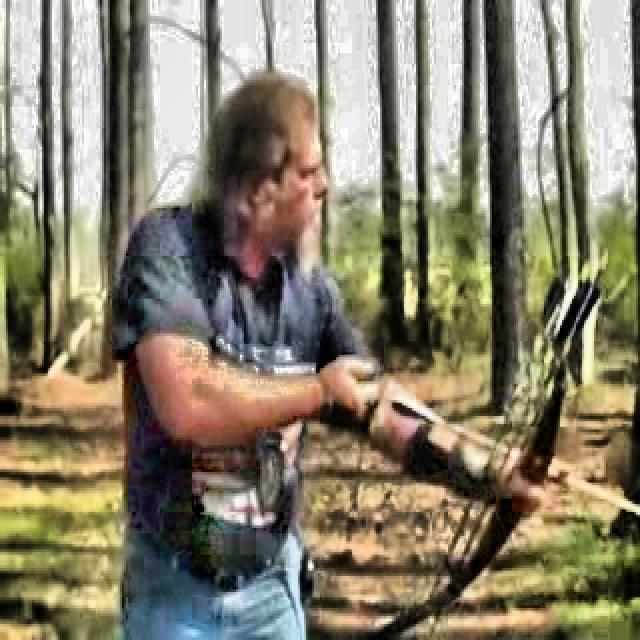I: (91, 62, 563, 640)
